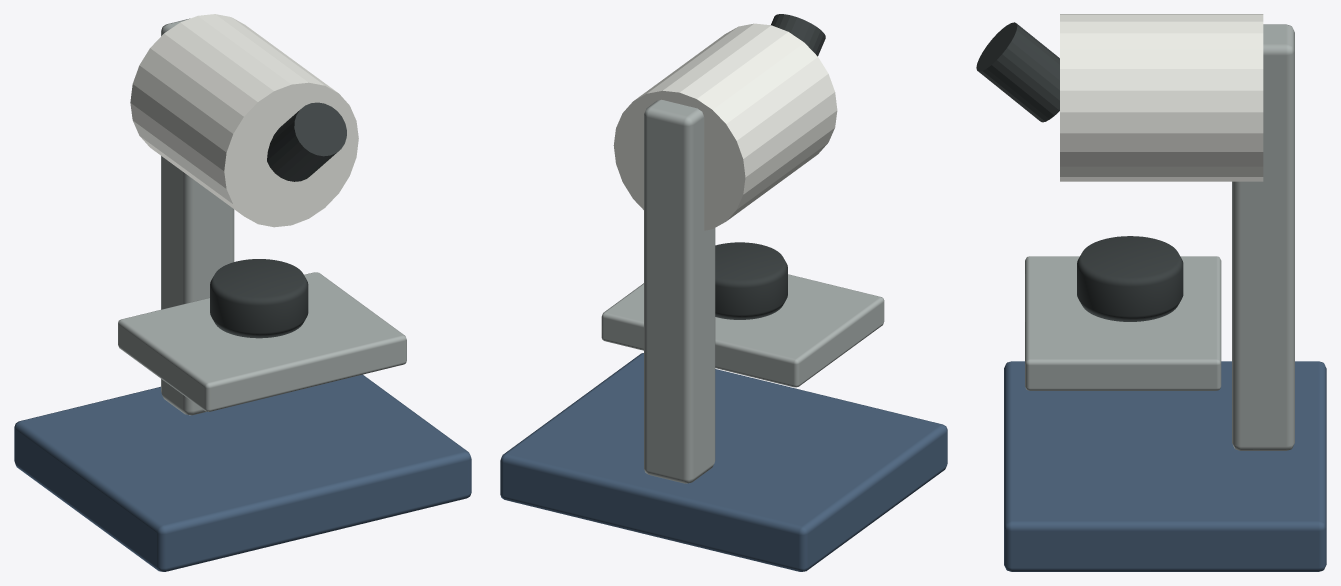
Rendered from spacecraft-parachute-packing-hall-spacecraft-parachute-02cd607a__32100.glb.
The picture shows the model from 3 angles, left to right: view 1: azimuth 30°, elevation 25°; view 2: azimuth 150°, elevation 25°; view 3: azimuth 270°, elevation 25°; orthographic projection. The views are drawn at different scales.
Visible parts, largest first — view 1: spacecraft-parachute-packing-hall-stitch-inspection-microsco (×4); view 2: spacecraft-parachute-packing-hall-stitch-inspection-microsco (×4); view 3: spacecraft-parachute-packing-hall-stitch-inspection-microsco (×4).
Boxes of the visible parts, x1=… form: spacecraft-parachute-packing-hall-stitch-inspection-microsco (×4): x1=14, y1=14, x2=471, y2=571; spacecraft-parachute-packing-hall-stitch-inspection-microsco (×4): x1=500, y1=14, x2=947, y2=571; spacecraft-parachute-packing-hall-stitch-inspection-microsco (×4): x1=976, y1=14, x2=1326, y2=571.
Size of the model in its own units: 0.28 by 0.37 by 0.2496.
